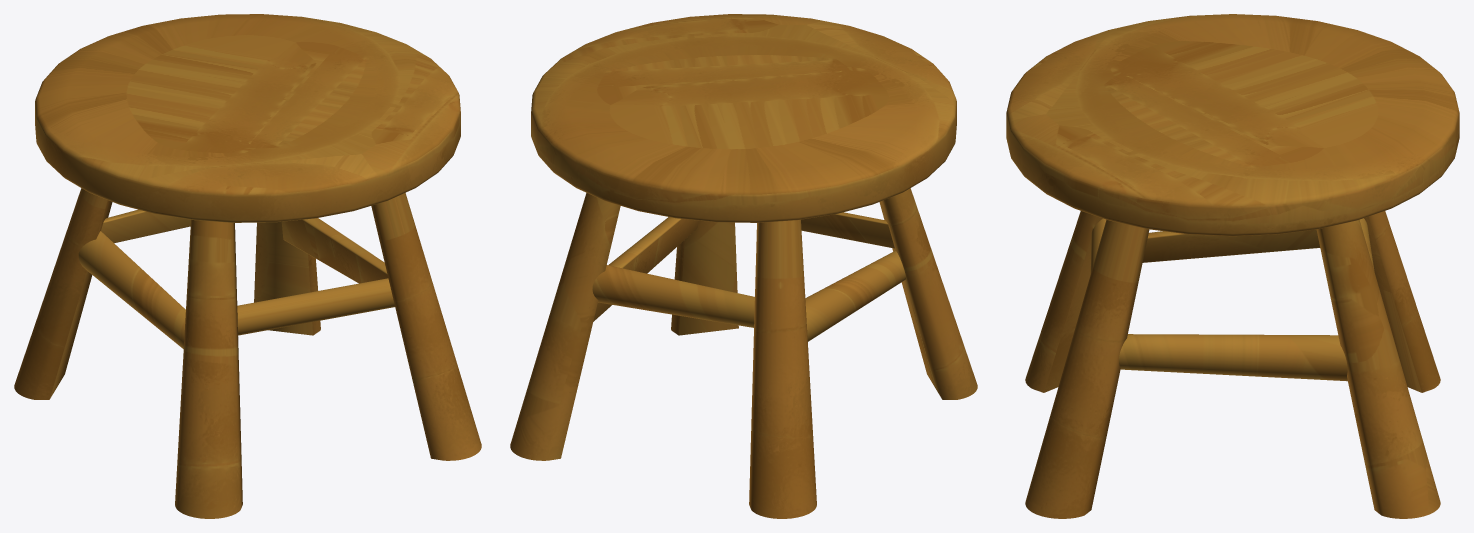
File: tabouret.fbx
The picture shows the model from 3 angles, left to right: view 1: azimuth 30°, elevation 25°; view 2: azimuth 150°, elevation 25°; view 3: azimuth 270°, elevation 25°; orthographic projection. The views are drawn at different scales.
Parts seen in each view (by area): view 1: Tabouret; view 2: Tabouret; view 3: Tabouret.
Part boxes in pixels (bbox=[...]): Tabouret: bbox=[14, 14, 481, 518]; Tabouret: bbox=[510, 14, 977, 518]; Tabouret: bbox=[1006, 14, 1459, 518].
Size of the model in its own units: 48.25 by 39.99 by 48.25.
Materials: 1 (1 with a texture image).
